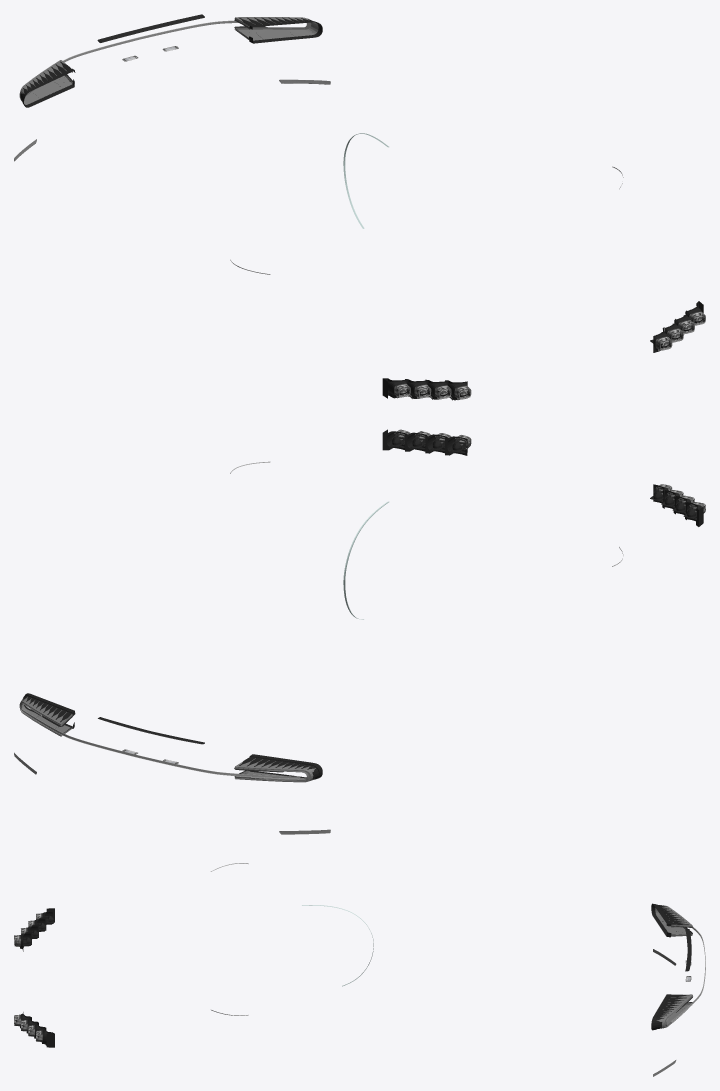
File: LightB.glb
3 views of the same model, one above another, from view 1: azimuth 30°, elevation 25°; view 2: azimuth 150°, elevation 25°; view 3: azimuth 270°, elevation 25° (orthographic). The views are drawn at different scales.
Parts seen in each view (by area): view 1: B:Kit2_Light_Geo_lodA_Kit2_Light_Geo_lodA_Bugatti_ChironProf; view 2: B:Kit2_Light_Geo_lodA_Kit2_Light_Geo_lodA_Bugatti_ChironProf; view 3: B:Kit2_Light_Geo_lodA_Kit2_Light_Geo_lodA_Bugatti_ChironProf.
Boxes of the visible parts, x1,y1,x2,y2 form: B:Kit2_Light_Geo_lodA_Kit2_Light_Geo_lodA_Bugatti_ChironProf: (14, 14, 705, 400); B:Kit2_Light_Geo_lodA_Kit2_Light_Geo_lodA_Bugatti_ChironProf: (14, 429, 705, 834); B:Kit2_Light_Geo_lodA_Kit2_Light_Geo_lodA_Bugatti_ChironProf: (14, 863, 705, 1076).
Bounding box in the file's own units: 0.0218 × 0.0073 × 0.0418.
1 material, 1 textured.
